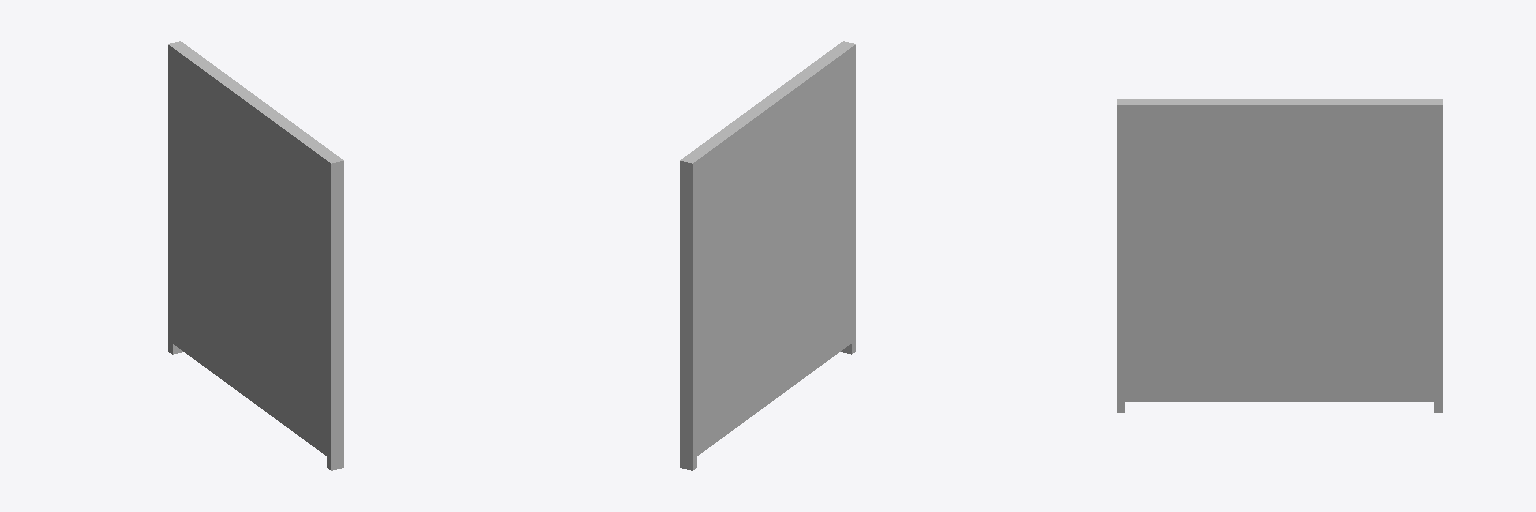
Rendered from wall1.obj.
The picture shows the model from 3 angles: view 1: azimuth 30°, elevation 25°; view 2: azimuth 150°, elevation 25°; view 3: azimuth 270°, elevation 25°; orthographic projection.
Parts seen in each view (by area): view 1: crosshatch_Cube.001; view 2: crosshatch_Cube.001; view 3: crosshatch_Cube.001.
Part boxes in pixels (bbox=[...]): crosshatch_Cube.001: bbox=[168, 41, 343, 470]; crosshatch_Cube.001: bbox=[680, 41, 855, 470]; crosshatch_Cube.001: bbox=[1117, 99, 1442, 412].
Size of the model in its own units: 0.2545 by 5.82 by 5.6.